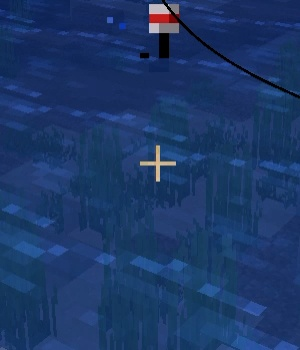up: (141, 2, 192, 68)
